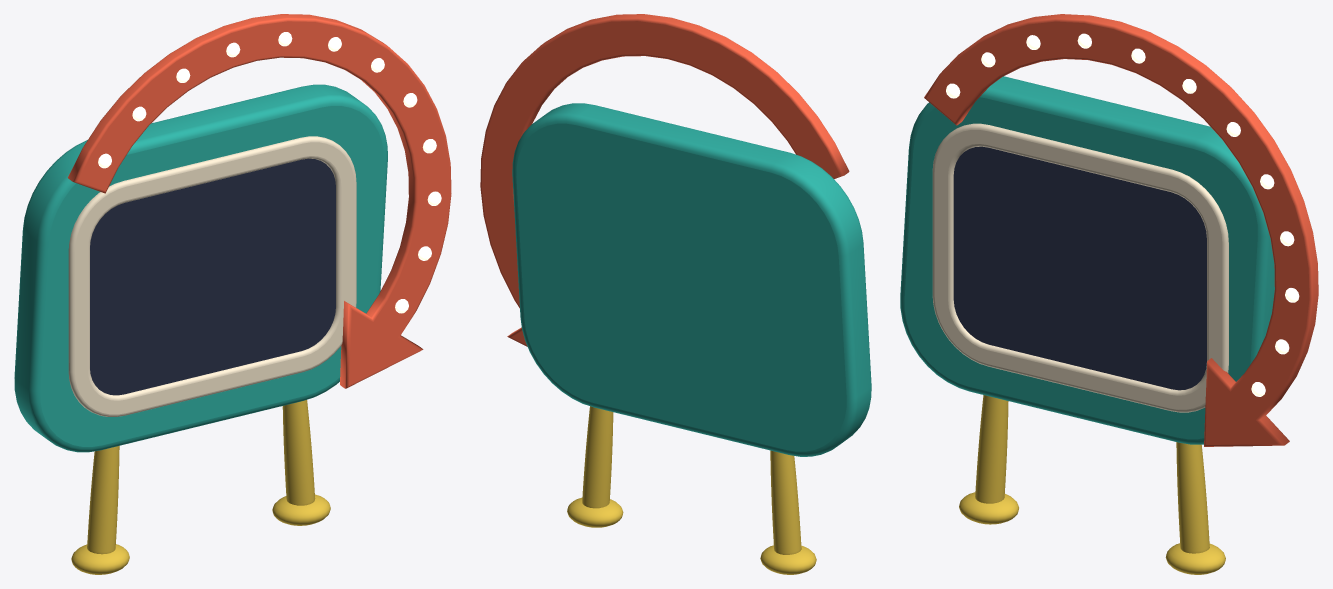
Rendered from BB_ARROW_1.glb.
The picture shows the model from 3 angles, left to right: view 1: azimuth 30°, elevation 25°; view 2: azimuth 150°, elevation 25°; view 3: azimuth 330°, elevation 25°; orthographic projection. The views are drawn at different scales.
Parts seen in each view (by area): view 1: BB_ARROW_1_FACE, BB_ARROW_1_body, BB_ARROW_1_deco0, BB_ARROW_1_frame, BB_ARROW_1_postL, BB_ARROW_1_postR, BB_ARROW_1_postL_foot, BB_ARROW_1_postR_foot; view 2: BB_ARROW_1_body, BB_ARROW_1_deco0, BB_ARROW_1_postL, BB_ARROW_1_postR, BB_ARROW_1_postL_foot, BB_ARROW_1_postR_foot; view 3: BB_ARROW_1_FACE, BB_ARROW_1_body, BB_ARROW_1_deco0, BB_ARROW_1_frame, BB_ARROW_1_postR, BB_ARROW_1_postL, BB_ARROW_1_postR_foot, BB_ARROW_1_postL_foot.
Boxes of the visible parts, x1=… form: BB_ARROW_1_FACE: x1=90, y1=158, x2=335, y2=395; BB_ARROW_1_body: x1=14, y1=84, x2=387, y2=452; BB_ARROW_1_deco0: x1=67, y1=14, x2=451, y2=388; BB_ARROW_1_frame: x1=68, y1=136, x2=356, y2=416; BB_ARROW_1_postL: x1=87, y1=446, x2=119, y2=554; BB_ARROW_1_postR: x1=282, y1=400, x2=315, y2=505; BB_ARROW_1_postL_foot: x1=71, y1=544, x2=129, y2=574; BB_ARROW_1_postR_foot: x1=272, y1=494, x2=330, y2=525; BB_ARROW_1_body: x1=512, y1=103, x2=871, y2=456; BB_ARROW_1_deco0: x1=480, y1=14, x2=849, y2=346; BB_ARROW_1_postL: x1=770, y1=450, x2=801, y2=554; BB_ARROW_1_postR: x1=582, y1=406, x2=613, y2=508; BB_ARROW_1_postL_foot: x1=760, y1=545, x2=816, y2=574; BB_ARROW_1_postR_foot: x1=567, y1=497, x2=623, y2=527; BB_ARROW_1_FACE: x1=953, y1=146, x2=1206, y2=390; BB_ARROW_1_body: x1=900, y1=76, x2=1274, y2=444; BB_ARROW_1_deco0: x1=924, y1=14, x2=1318, y2=446; BB_ARROW_1_frame: x1=932, y1=123, x2=1228, y2=412; BB_ARROW_1_postR: x1=1176, y1=442, x2=1209, y2=553; BB_ARROW_1_postL: x1=975, y1=395, x2=1008, y2=503; BB_ARROW_1_postR_foot: x1=1165, y1=543, x2=1225, y2=574; BB_ARROW_1_postL_foot: x1=959, y1=492, x2=1018, y2=524.
Size of the model in its own units: 9.98 by 12.22 by 1.52.
